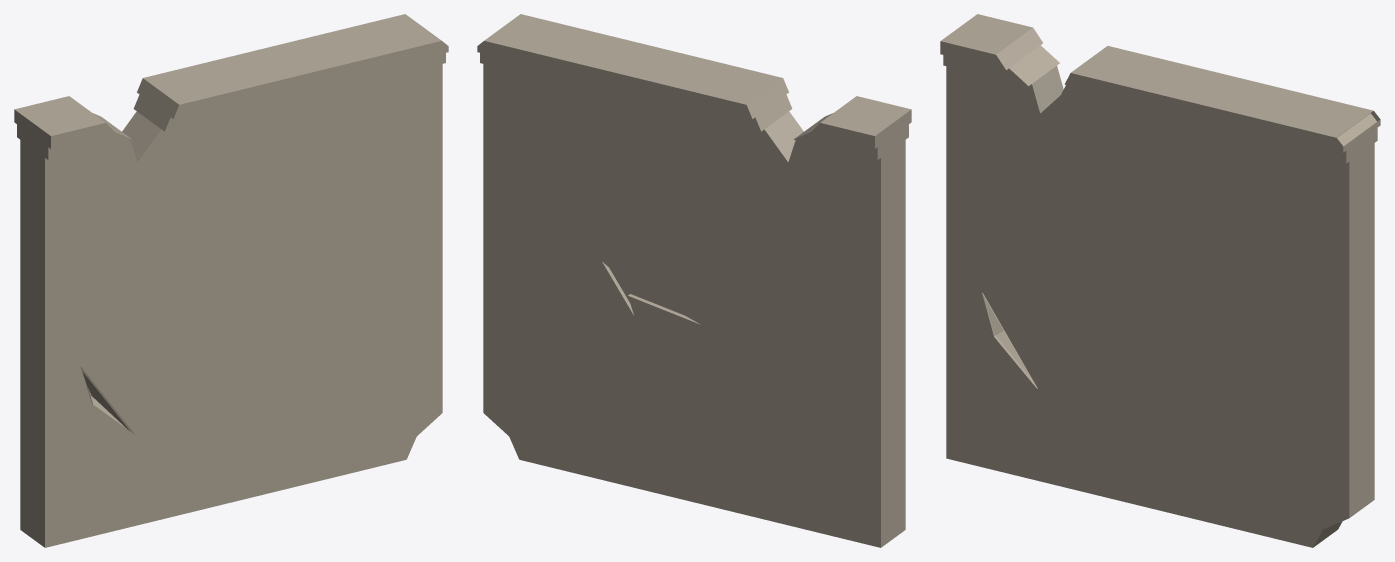
Rendered from Village_Broken_Plaster_Wall_A.fbx.
3 views of the same model, side by side, from view 1: azimuth 30°, elevation 25°; view 2: azimuth 150°, elevation 25°; view 3: azimuth 330°, elevation 25° (orthographic).
Visible parts, largest first — view 1: Village_Wall_2m_Roof_A.229; view 2: Village_Wall_2m_Roof_A.229; view 3: Village_Wall_2m_Roof_A.229.
Boxes of the visible parts, box(x1,y1,x2,y2) form: Village_Wall_2m_Roof_A.229: box(14, 14, 448, 547); Village_Wall_2m_Roof_A.229: box(477, 14, 911, 547); Village_Wall_2m_Roof_A.229: box(940, 14, 1380, 547).
Bounding box in the file's own units: 200 × 200 × 31.9.
